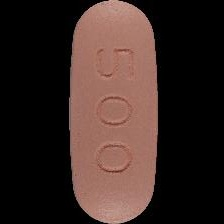69189-0539: (0, 0, 224, 224)
